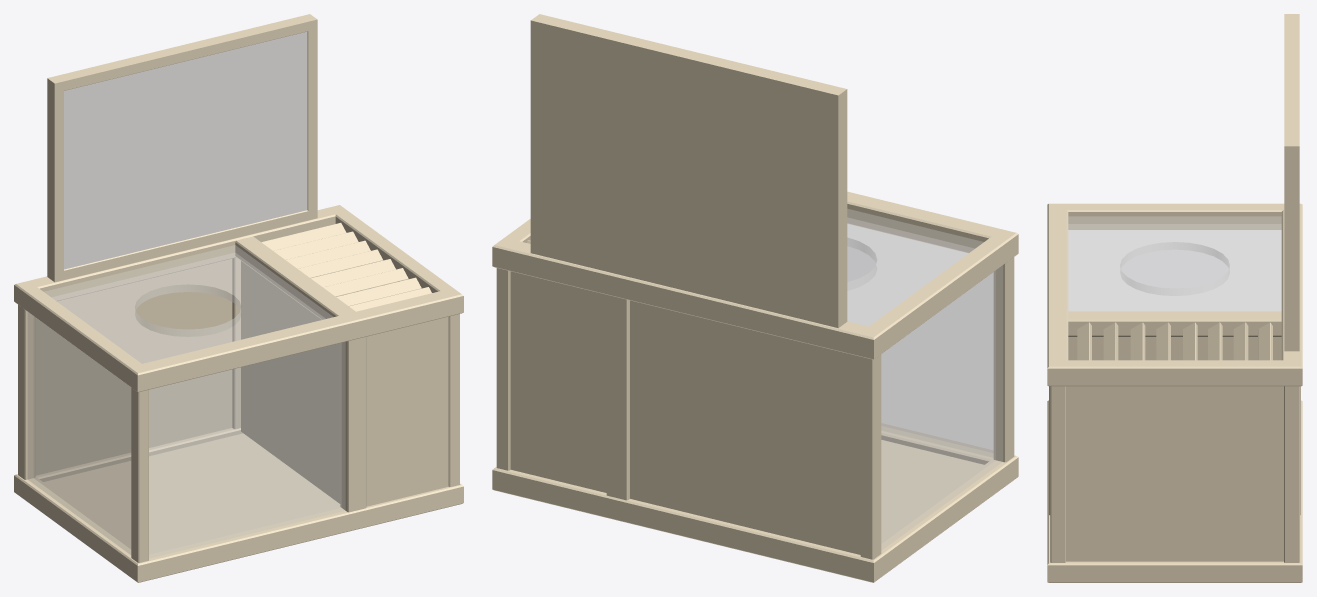
The model's file is omikuji.glb.
The picture shows the model from 3 angles, left to right: view 1: azimuth 30°, elevation 25°; view 2: azimuth 150°, elevation 25°; view 3: azimuth 270°, elevation 25°; orthographic projection. The views are drawn at different scales.
Visible parts, largest first — view 1: OmiBody, OmiPaper, OmiGlassF, OmiFloor, OmiGlassL, OmiGlassTop, OmiSign; view 2: OmiBody, OmiSign, OmiGlassL, OmiGlassF, OmiGlassTop, OmiFloor; view 3: OmiBody, OmiGlassL, OmiGlassTop, OmiSign.
Boxes of the visible parts, x1=… form: OmiBody: x1=14, y1=205, x2=463, y2=582; OmiPaper: x1=64, y1=32, x2=307, y2=269; OmiGlassF: x1=149, y1=342, x2=345, y2=558; OmiFloor: x1=43, y1=433, x2=340, y2=552; OmiGlassL: x1=28, y1=312, x2=130, y2=554; OmiGlassTop: x1=45, y1=245, x2=332, y2=363; OmiSign: x1=47, y1=14, x2=317, y2=282; OmiBody: x1=492, y1=191, x2=1018, y2=582; OmiSign: x1=530, y1=14, x2=847, y2=328; OmiGlassL: x1=881, y1=266, x2=1002, y2=549; OmiGlassF: x1=847, y1=224, x2=993, y2=452; OmiGlassTop: x1=847, y1=209, x2=983, y2=326; OmiFloor: x1=881, y1=440, x2=983, y2=539; OmiBody: x1=1047, y1=203, x2=1302, y2=582; OmiGlassL: x1=1068, y1=230, x2=1281, y2=310; OmiGlassTop: x1=1068, y1=216, x2=1281, y2=310; OmiSign: x1=1284, y1=14, x2=1299, y2=351.
Size of the model in its own units: 1.24 by 1.49 by 0.8163.
